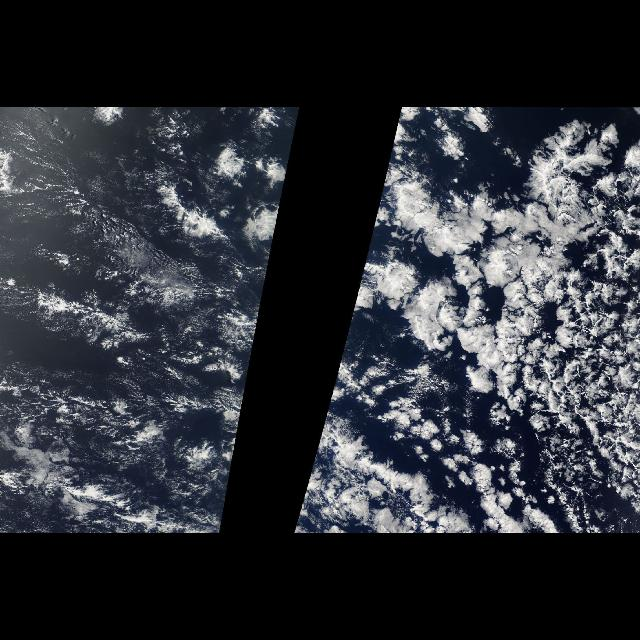Flower: (296, 112, 636, 526), (150, 114, 300, 526)
